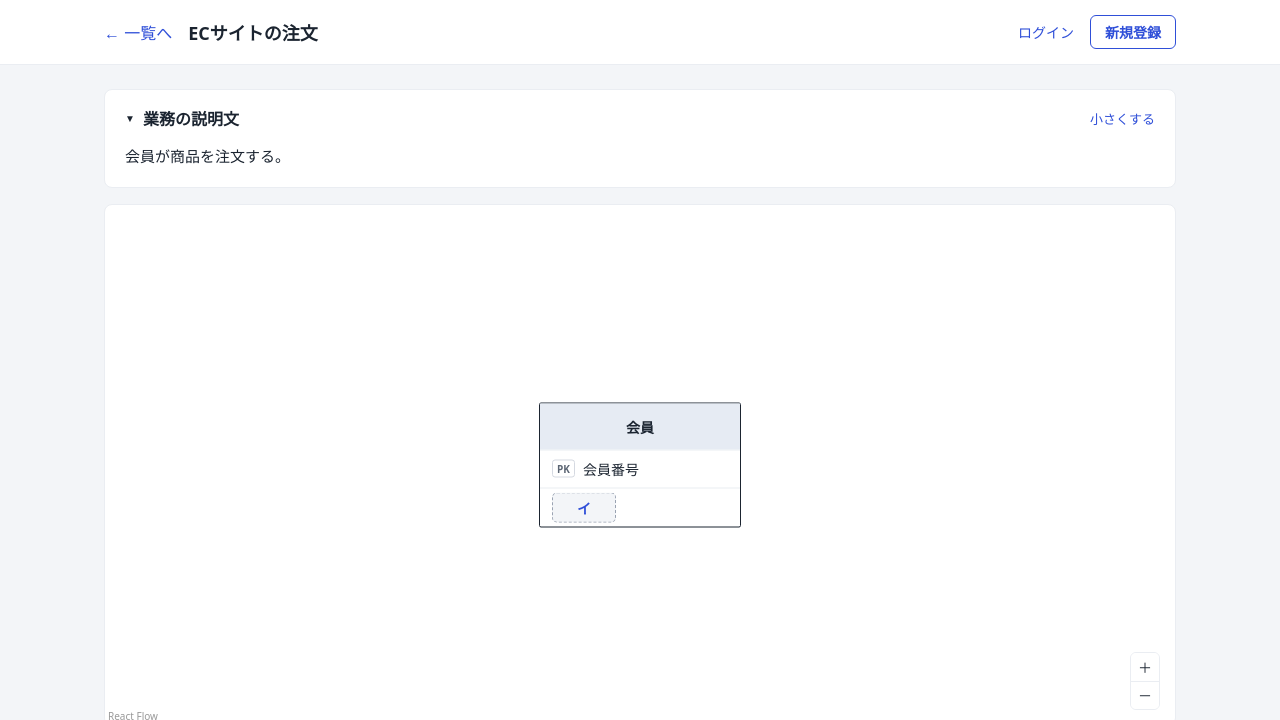
Test: App › 問題画面に説明文・解答群・拡大縮小ボタンを出し、説明文はたためる
The image size is (1280, 720).
expect the text "会員が商品を注文する。" is shown: met, box [125, 146, 290, 166]
Click the button "小さくする" at {"x": 1122, "y": 118}, box [1090, 108, 1155, 128]
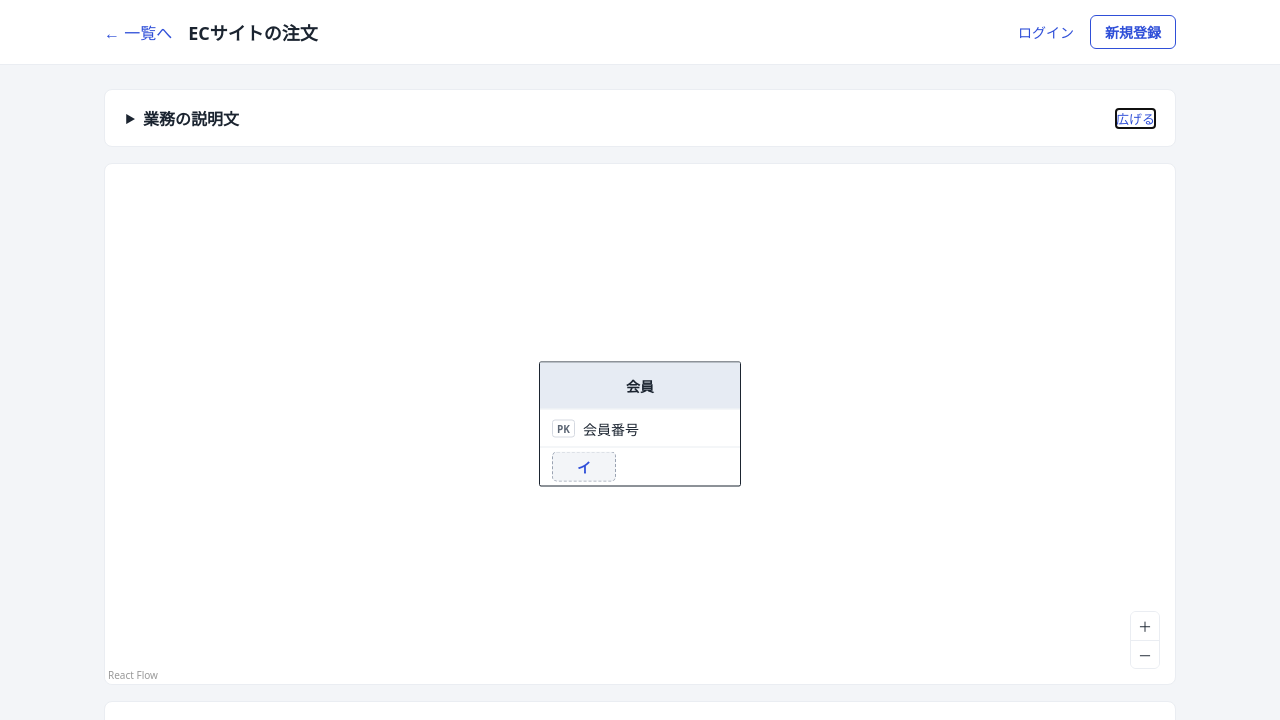
expect the text "会員が商品を注文する。" is gone: met
expect the button "▶ 業務の説明文" is collapsed: met, box [125, 106, 239, 130]
Click the button "広げる" at {"x": 1136, "y": 118}, box [1116, 108, 1155, 128]
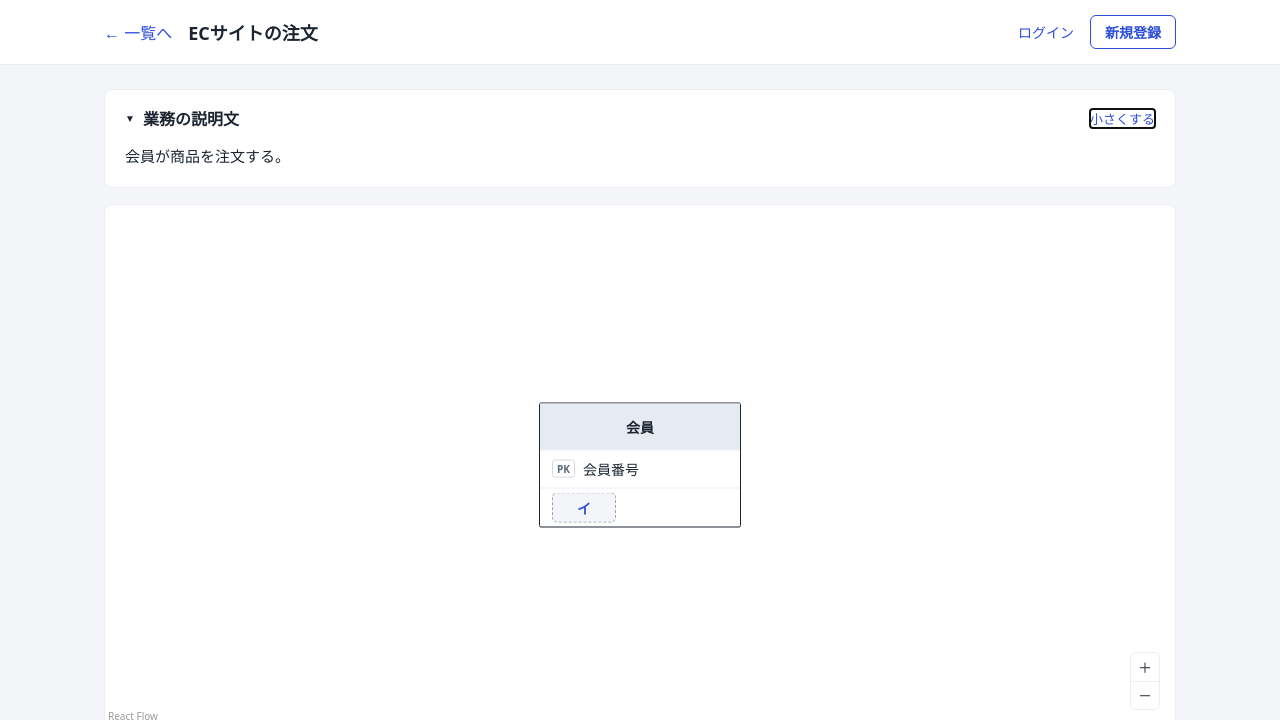
expect the button named "拡大" is shown: met, box [1131, 652, 1159, 680]
expect the text "会員が商品を注文する。" is shown: met, box [125, 146, 290, 166]
